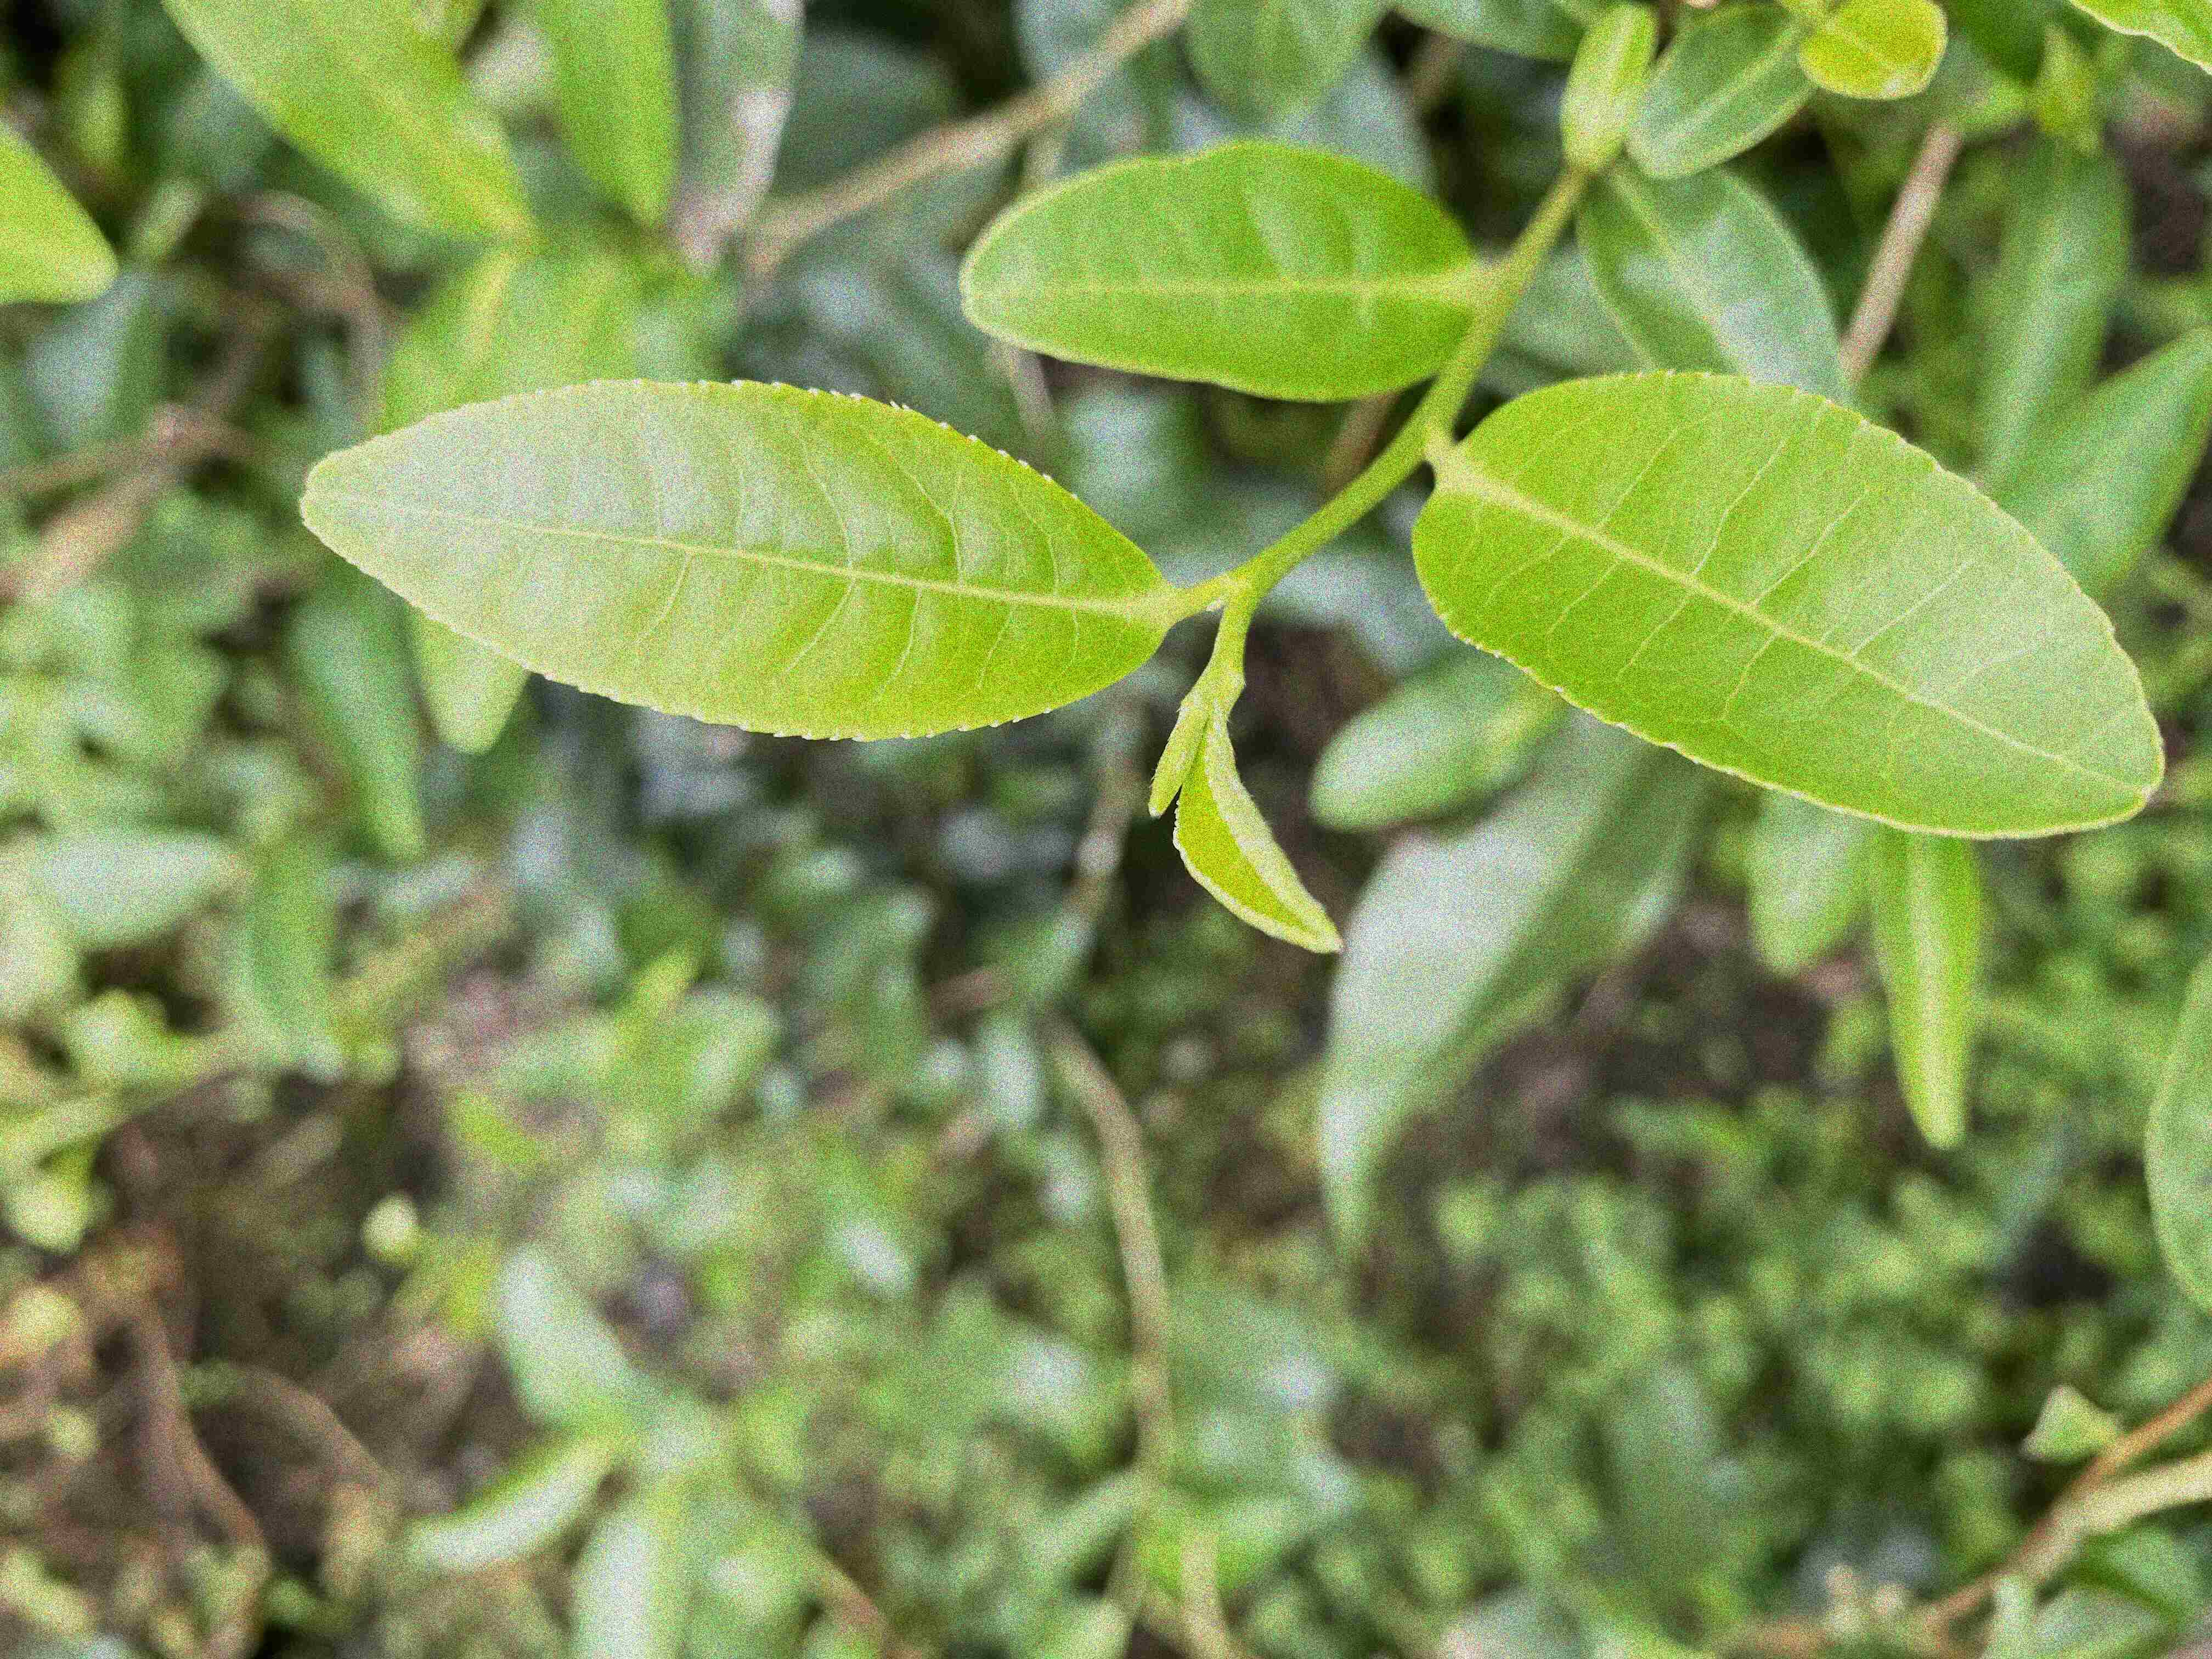healthy: (1407, 368, 2167, 843), (296, 373, 1176, 744), (956, 139, 1482, 408)
